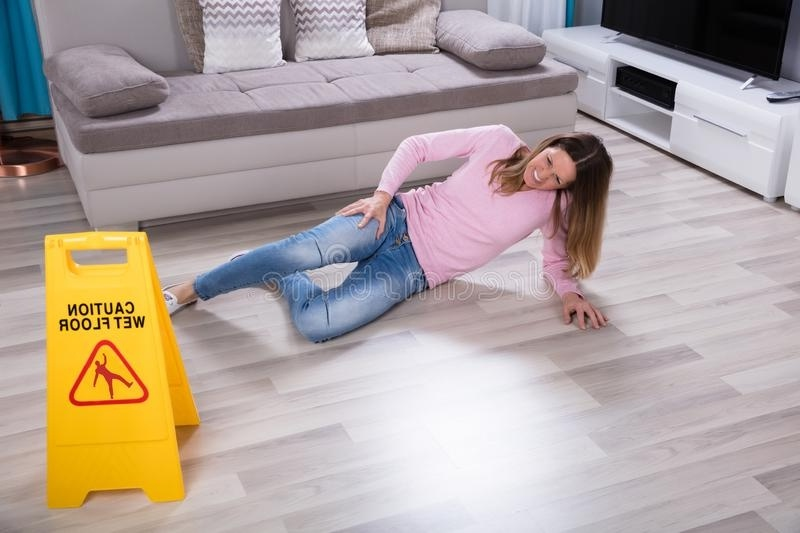fall: (165, 112, 628, 356)
